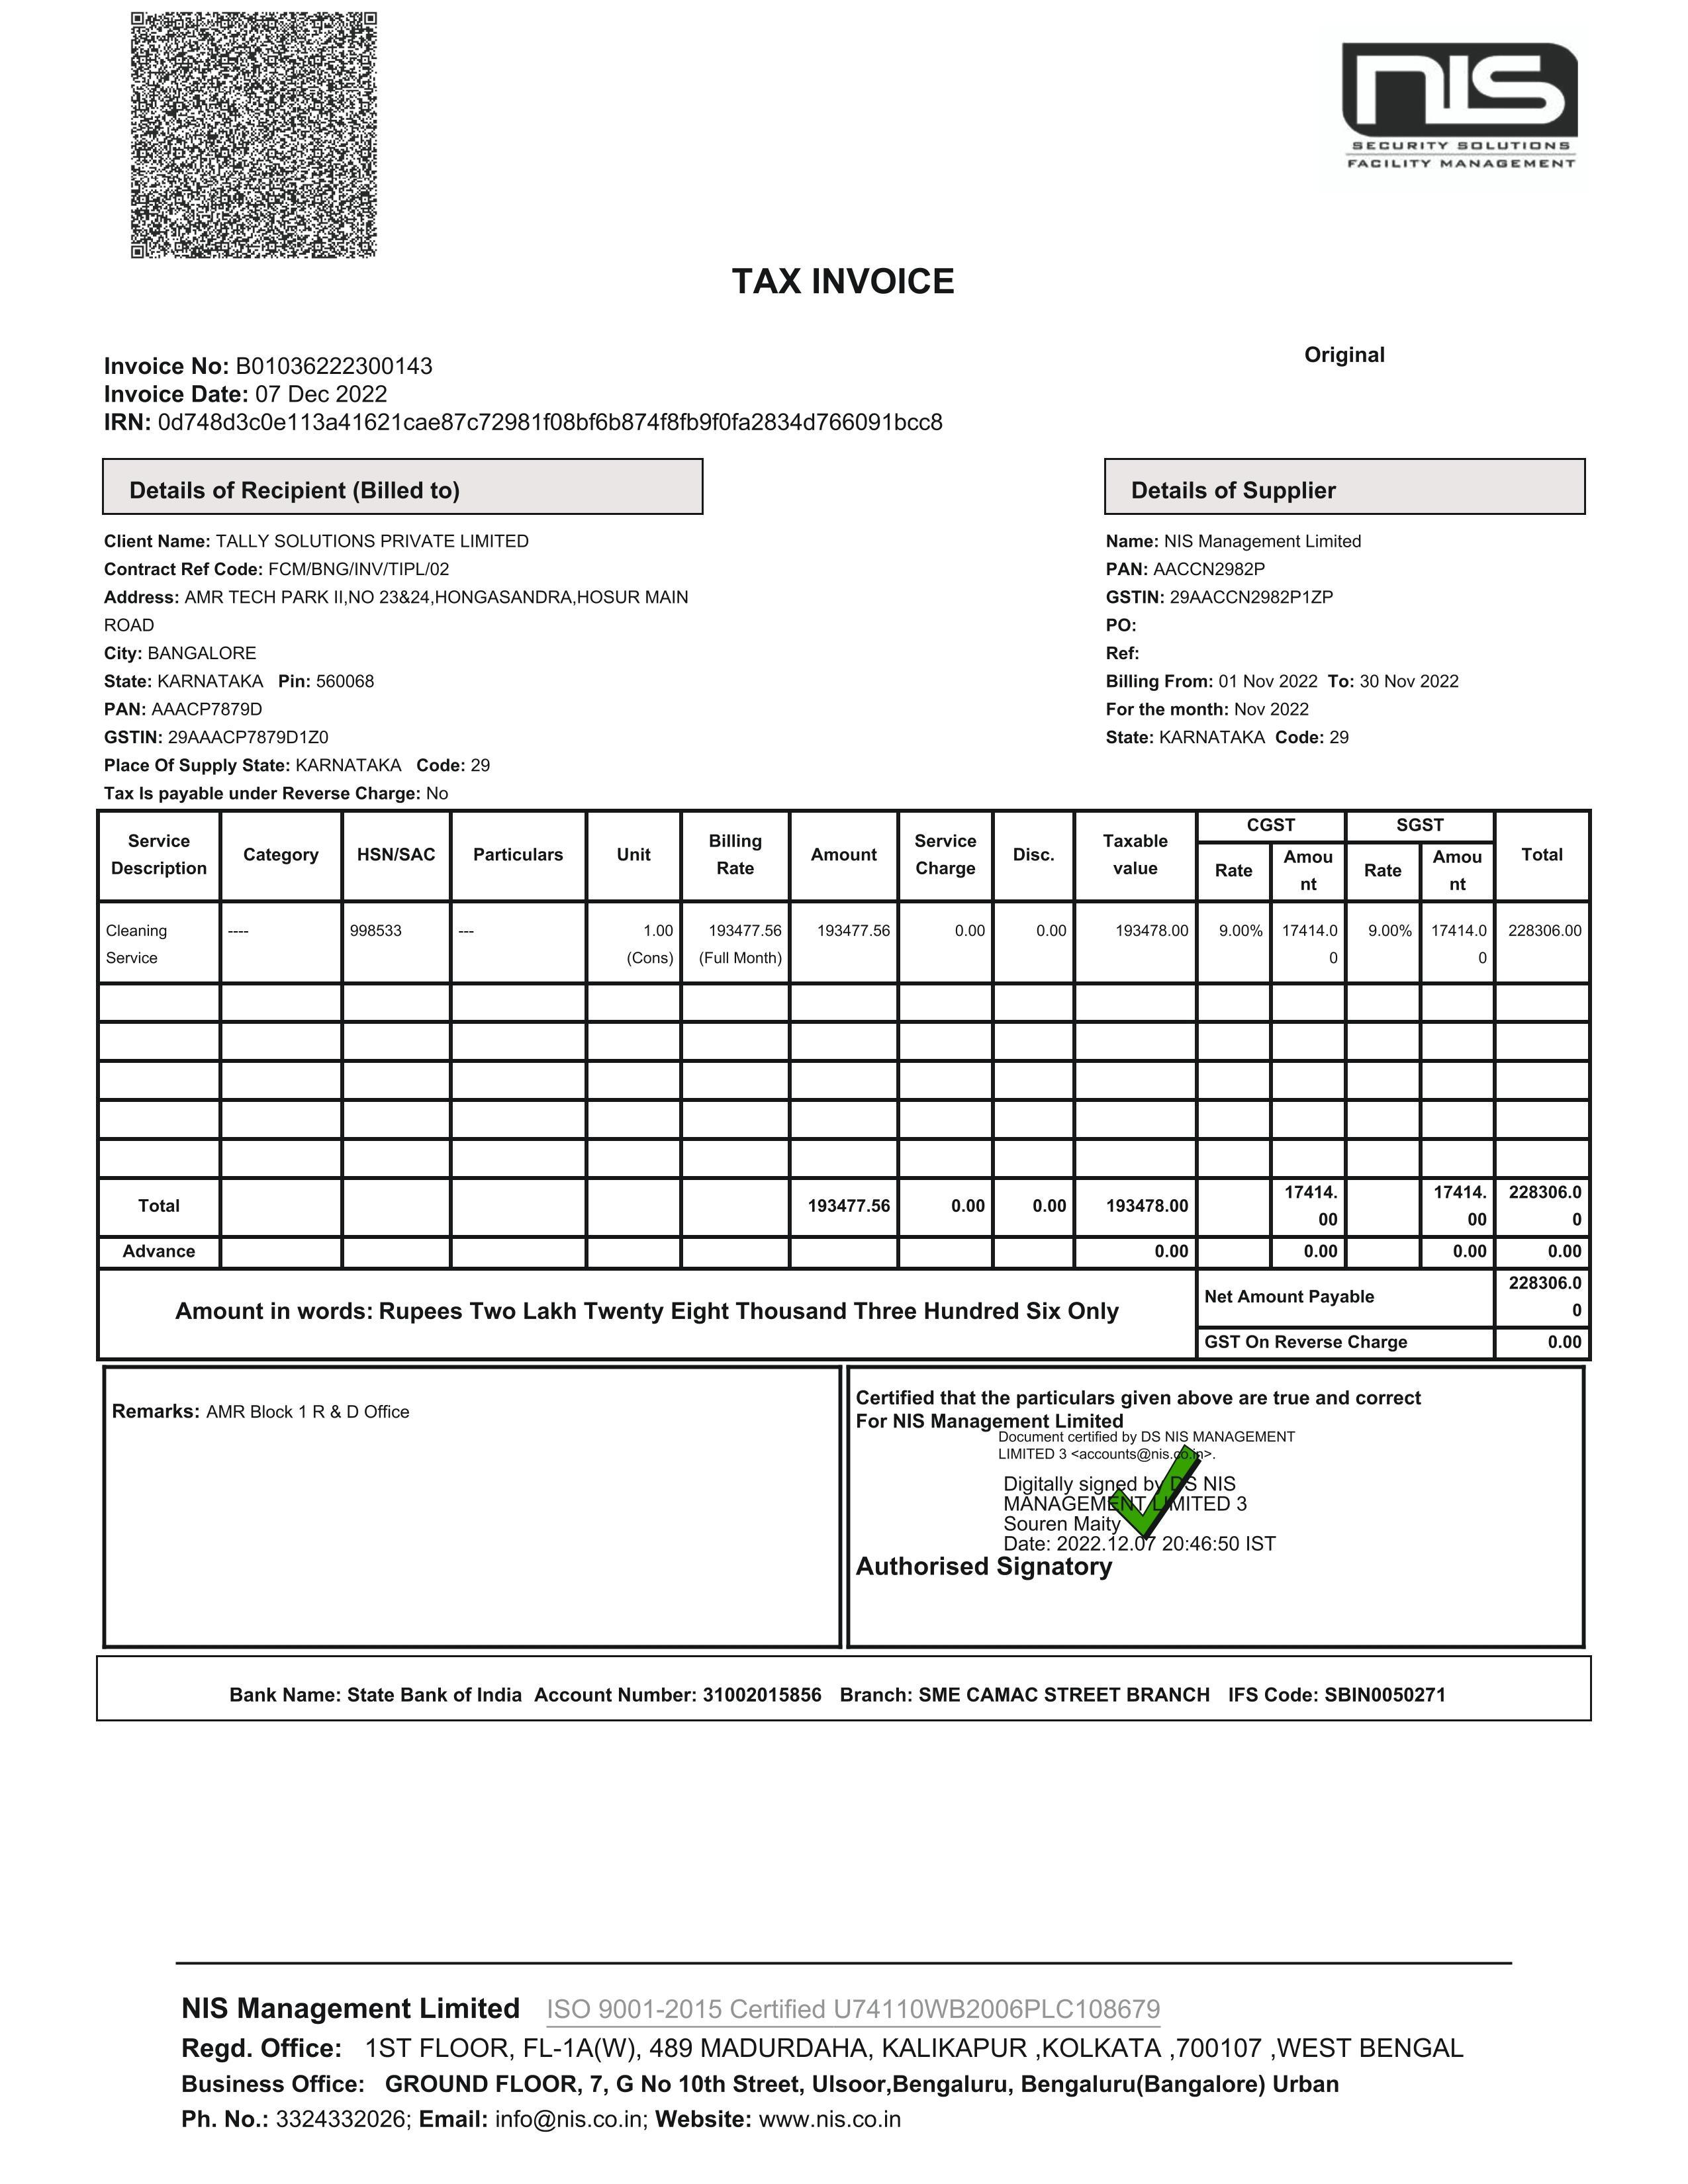InvoiceDate: (254, 381, 392, 409)
InvoiceNumber: (234, 353, 440, 376)
TotalAmount: (1504, 1273, 1583, 1294)
